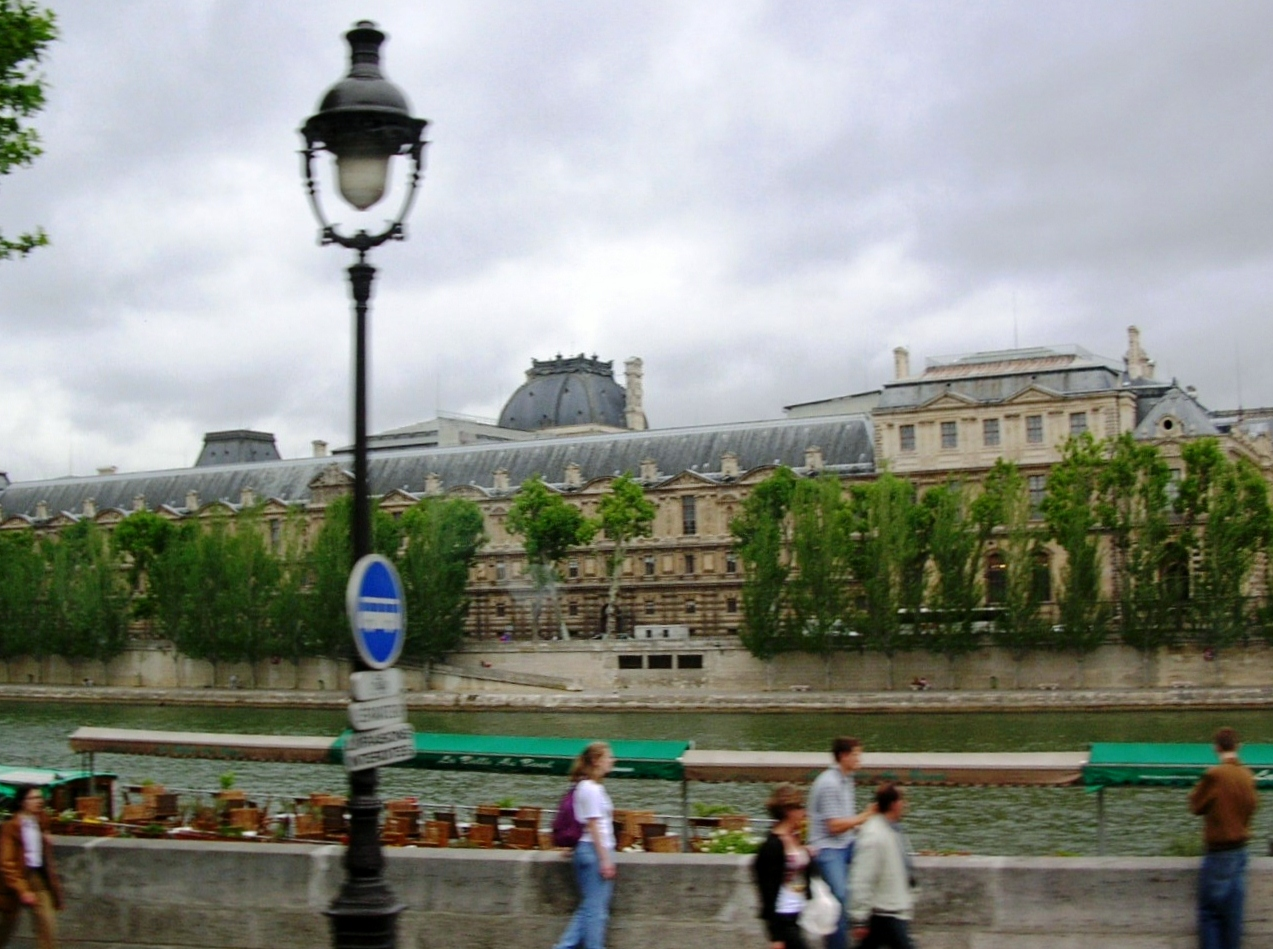fachada: (5, 290, 1273, 712)
poste: (292, 0, 440, 949)
